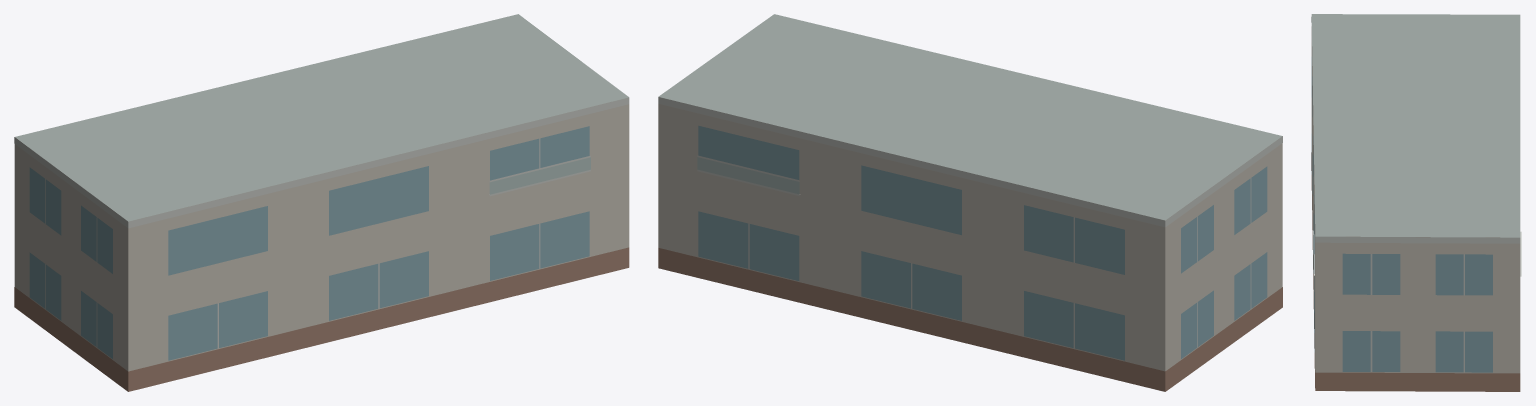
Rendered from survey-upis-32718333.glb.
3 views of the same model, side by side, from view 1: azimuth 30°, elevation 25°; view 2: azimuth 150°, elevation 25°; view 3: azimuth 270°, elevation 25° (orthographic). The views are drawn at different scales.
Visible parts, largest first — view 1: survey-upis-32718333.tmp; view 2: survey-upis-32718333.tmp; view 3: survey-upis-32718333.tmp.
Part boxes in pixels (x1=…): survey-upis-32718333.tmp: x1=14, y1=14, x2=629, y2=391; survey-upis-32718333.tmp: x1=658, y1=14, x2=1282, y2=391; survey-upis-32718333.tmp: x1=1311, y1=14, x2=1521, y2=391.
Size of the model in its own units: 18.96 by 6.1 by 7.53.
